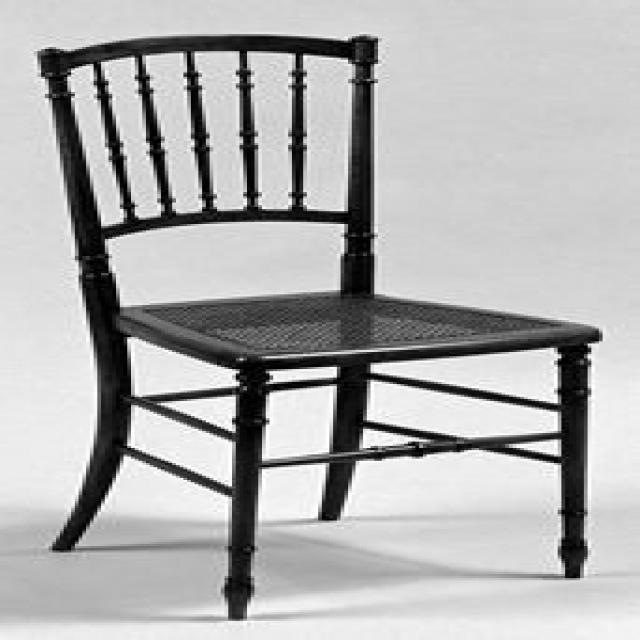chair: (22, 30, 600, 622)
